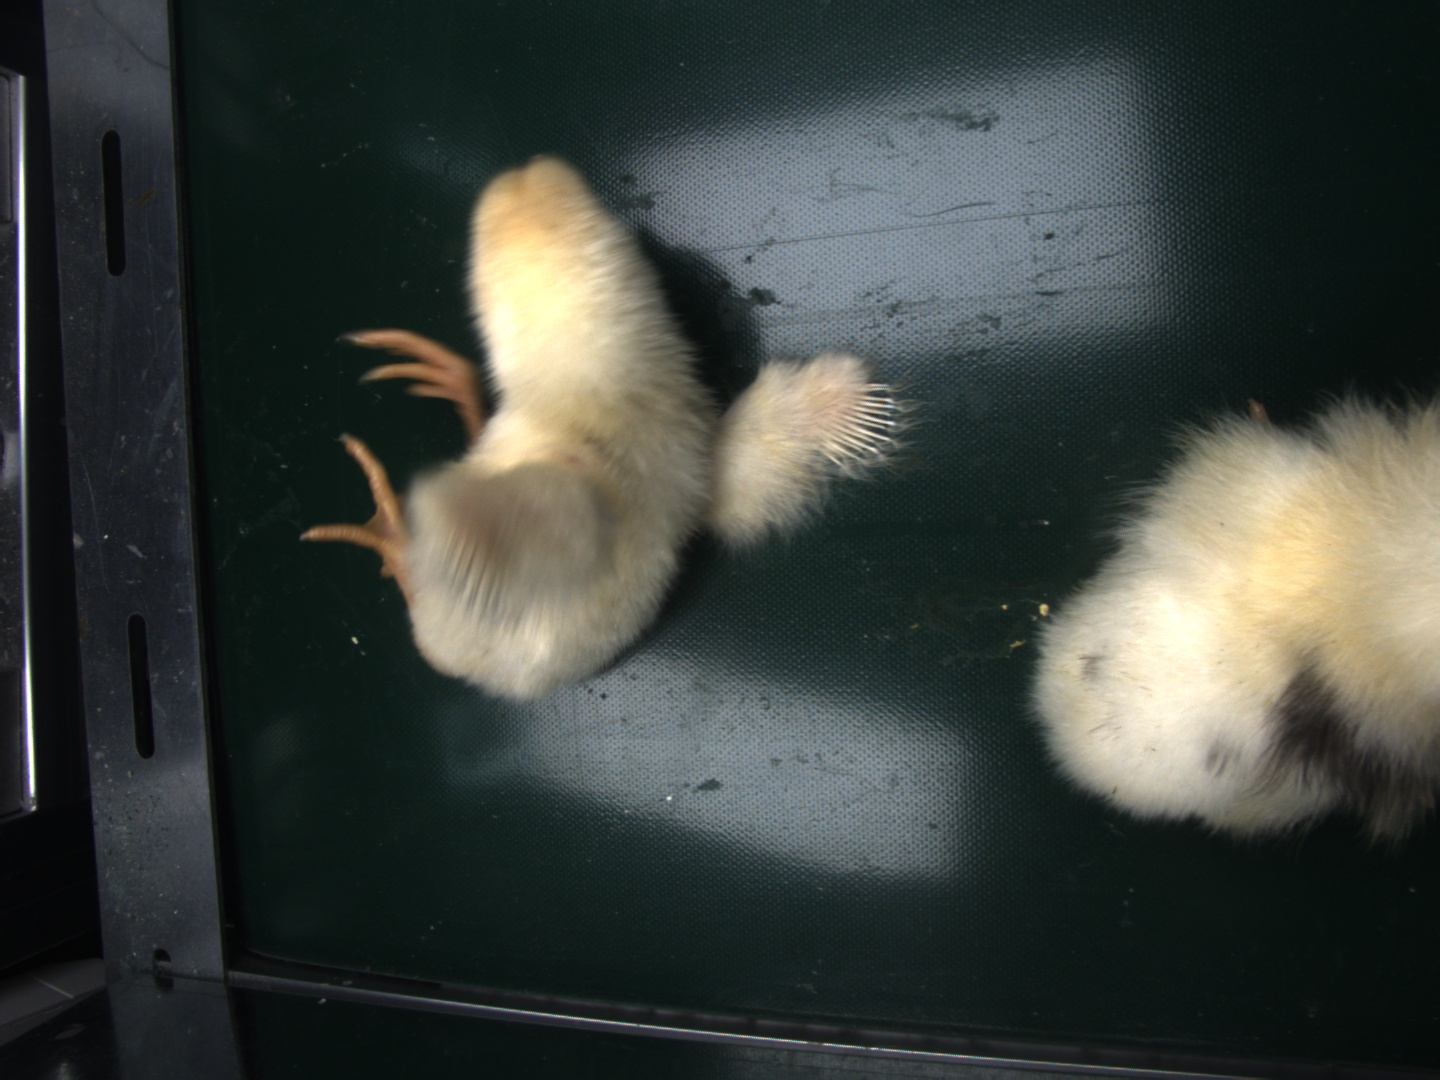male: (823, 391, 895, 465)
